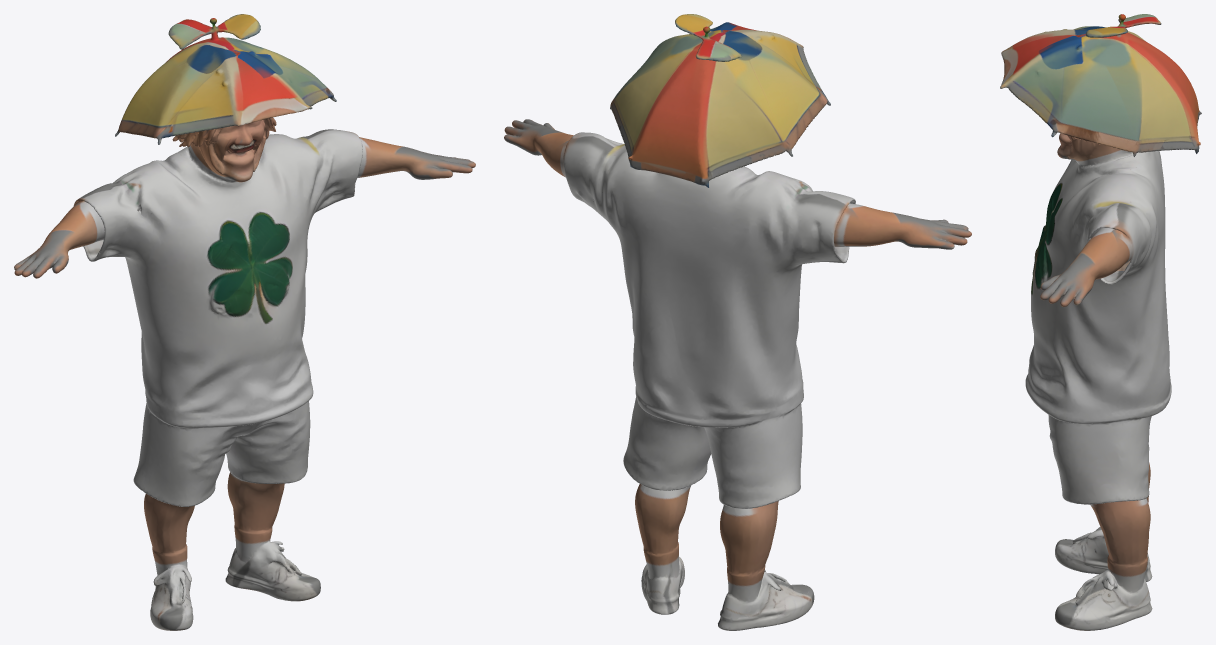
The model's file is lucky.glb.
The picture shows the model from 3 angles, left to right: view 1: azimuth 30°, elevation 25°; view 2: azimuth 150°, elevation 25°; view 3: azimuth 270°, elevation 25°; orthographic projection.
Visible parts, largest first — view 1: tripo_node_f39db0b0-6b88-4b8d-9cdc-231b85e2eddd; view 2: tripo_node_f39db0b0-6b88-4b8d-9cdc-231b85e2eddd; view 3: tripo_node_f39db0b0-6b88-4b8d-9cdc-231b85e2eddd.
Boxes of the visible parts, bbox=[...] form: tripo_node_f39db0b0-6b88-4b8d-9cdc-231b85e2eddd: bbox=[14, 14, 475, 630]; tripo_node_f39db0b0-6b88-4b8d-9cdc-231b85e2eddd: bbox=[504, 14, 971, 630]; tripo_node_f39db0b0-6b88-4b8d-9cdc-231b85e2eddd: bbox=[1000, 14, 1201, 630].
Bounding box in the file's own units: 0.8264 × 1 × 0.3155.
Materials: 1 (1 with a texture image).
